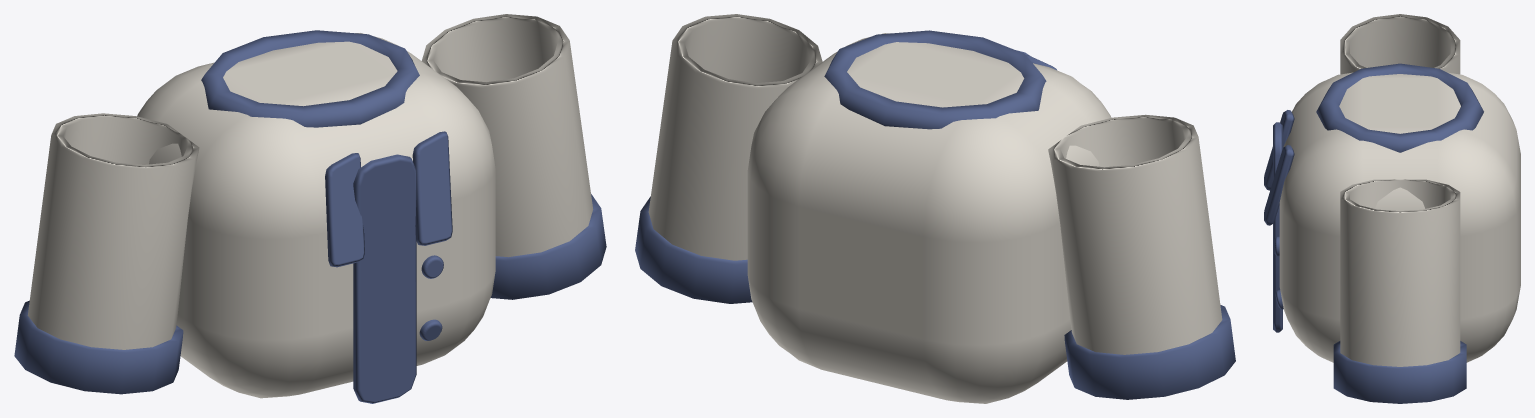
File: boa_fleece.glb
3 views of the same model, side by side, from view 1: azimuth 30°, elevation 25°; view 2: azimuth 150°, elevation 25°; view 3: azimuth 270°, elevation 25° (orthographic). The views are drawn at different scales.
Parts seen in each view (by area): view 1: boa_fleece_Body, boa_fleece_ArmL, boa_fleece_ArmR; view 2: boa_fleece_Body, boa_fleece_ArmL, boa_fleece_ArmR; view 3: boa_fleece_Body, boa_fleece_ArmR, boa_fleece_ArmL.
Part boxes in pixels (<box>): boa_fleece_Body: <box>137,30,495,403</box>; boa_fleece_ArmL: <box>14,113,199,394</box>; boa_fleece_ArmR: <box>422,14,606,299</box>; boa_fleece_Body: <box>747,30,1111,403</box>; boa_fleece_ArmL: <box>1048,114,1235,399</box>; boa_fleece_ArmR: <box>635,14,822,303</box>; boa_fleece_Body: <box>1264,63,1520,362</box>; boa_fleece_ArmR: <box>1333,179,1466,403</box>; boa_fleece_ArmL: <box>1340,14,1460,74</box>.
Size of the model in its own units: 0.6504 by 0.3119 by 0.3085.
